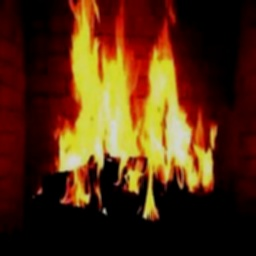fire: (32, 0, 221, 223)
